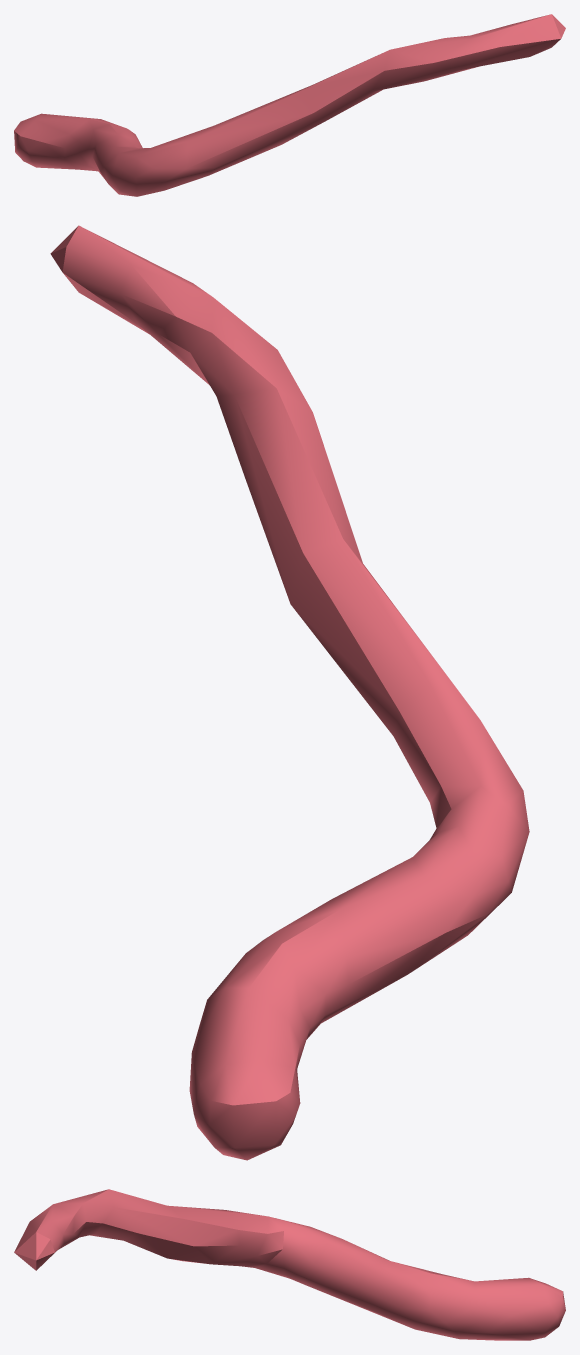
Rendered from fma3840_fj2700.glb.
3 renders of one model, top to bottom at view 1: azimuth 30°, elevation 25°; view 2: azimuth 150°, elevation 25°; view 3: azimuth 270°, elevation 25°, orthographic. The views are drawn at different scales.
Parts seen in each view (by area): view 1: FMA3840_FJ2700; view 2: FMA3840_FJ2700; view 3: FMA3840_FJ2700.
Part boxes in pixels (x1,y1,x2,y2): FMA3840_FJ2700: (14,14,565,196); FMA3840_FJ2700: (50,225,529,1160); FMA3840_FJ2700: (14,1189,565,1340).
Bounding box in the file's own units: 0.00629 × 0.00414 × 0.00758.
